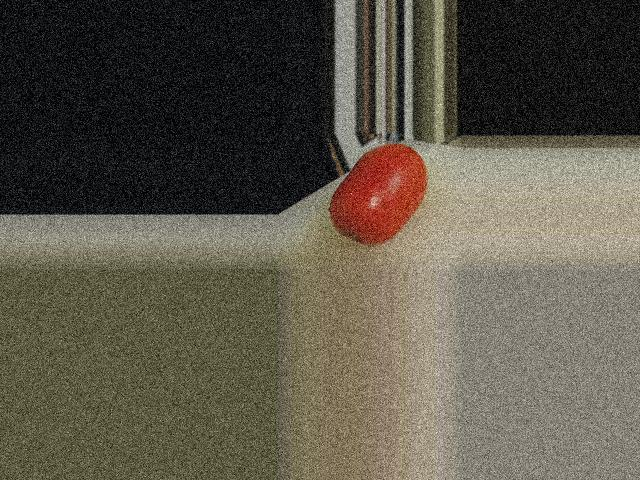tomato: (329, 143, 427, 245)
